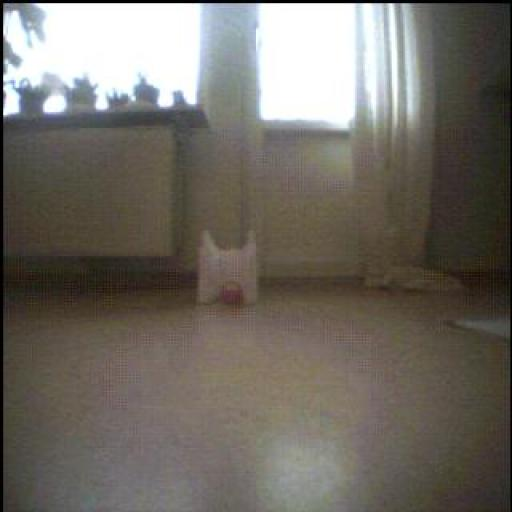Basket: (222, 283, 244, 307)
